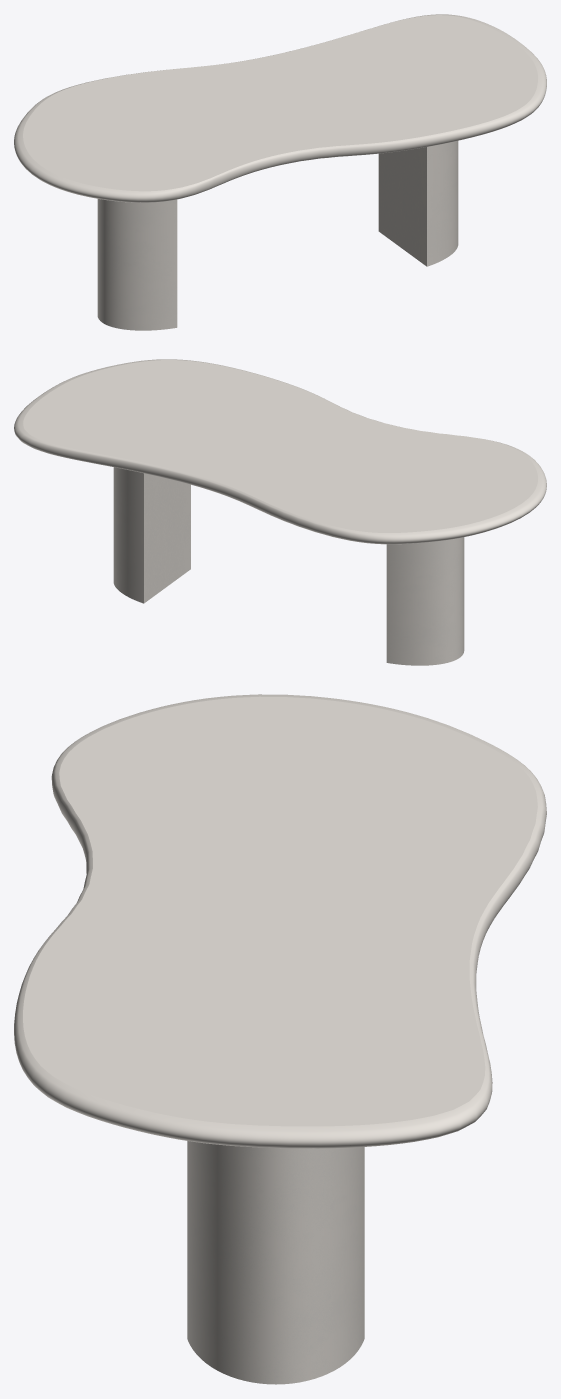
The model's file is pearlwhite_wave_round_hillside.glb.
The picture shows the model from 3 angles, top to bottom: view 1: azimuth 30°, elevation 25°; view 2: azimuth 150°, elevation 25°; view 3: azimuth 270°, elevation 25°; orthographic projection. The views are drawn at different scales.
Parts seen in each view (by area): view 1: round_wave, hillside; view 2: round_wave, hillside; view 3: round_wave, hillside.
Boxes of the visible parts, x1,y1,x2,y2 form: round_wave: (14,14,546,202); hillside: (97,141,458,330); round_wave: (14,359,546,544); hillside: (113,467,464,665); round_wave: (14,694,546,1148); hillside: (187,1141,364,1384).
Bounding box in the file's own units: 7.5 × 2.5 × 3.8.
1 material, 1 textured.
